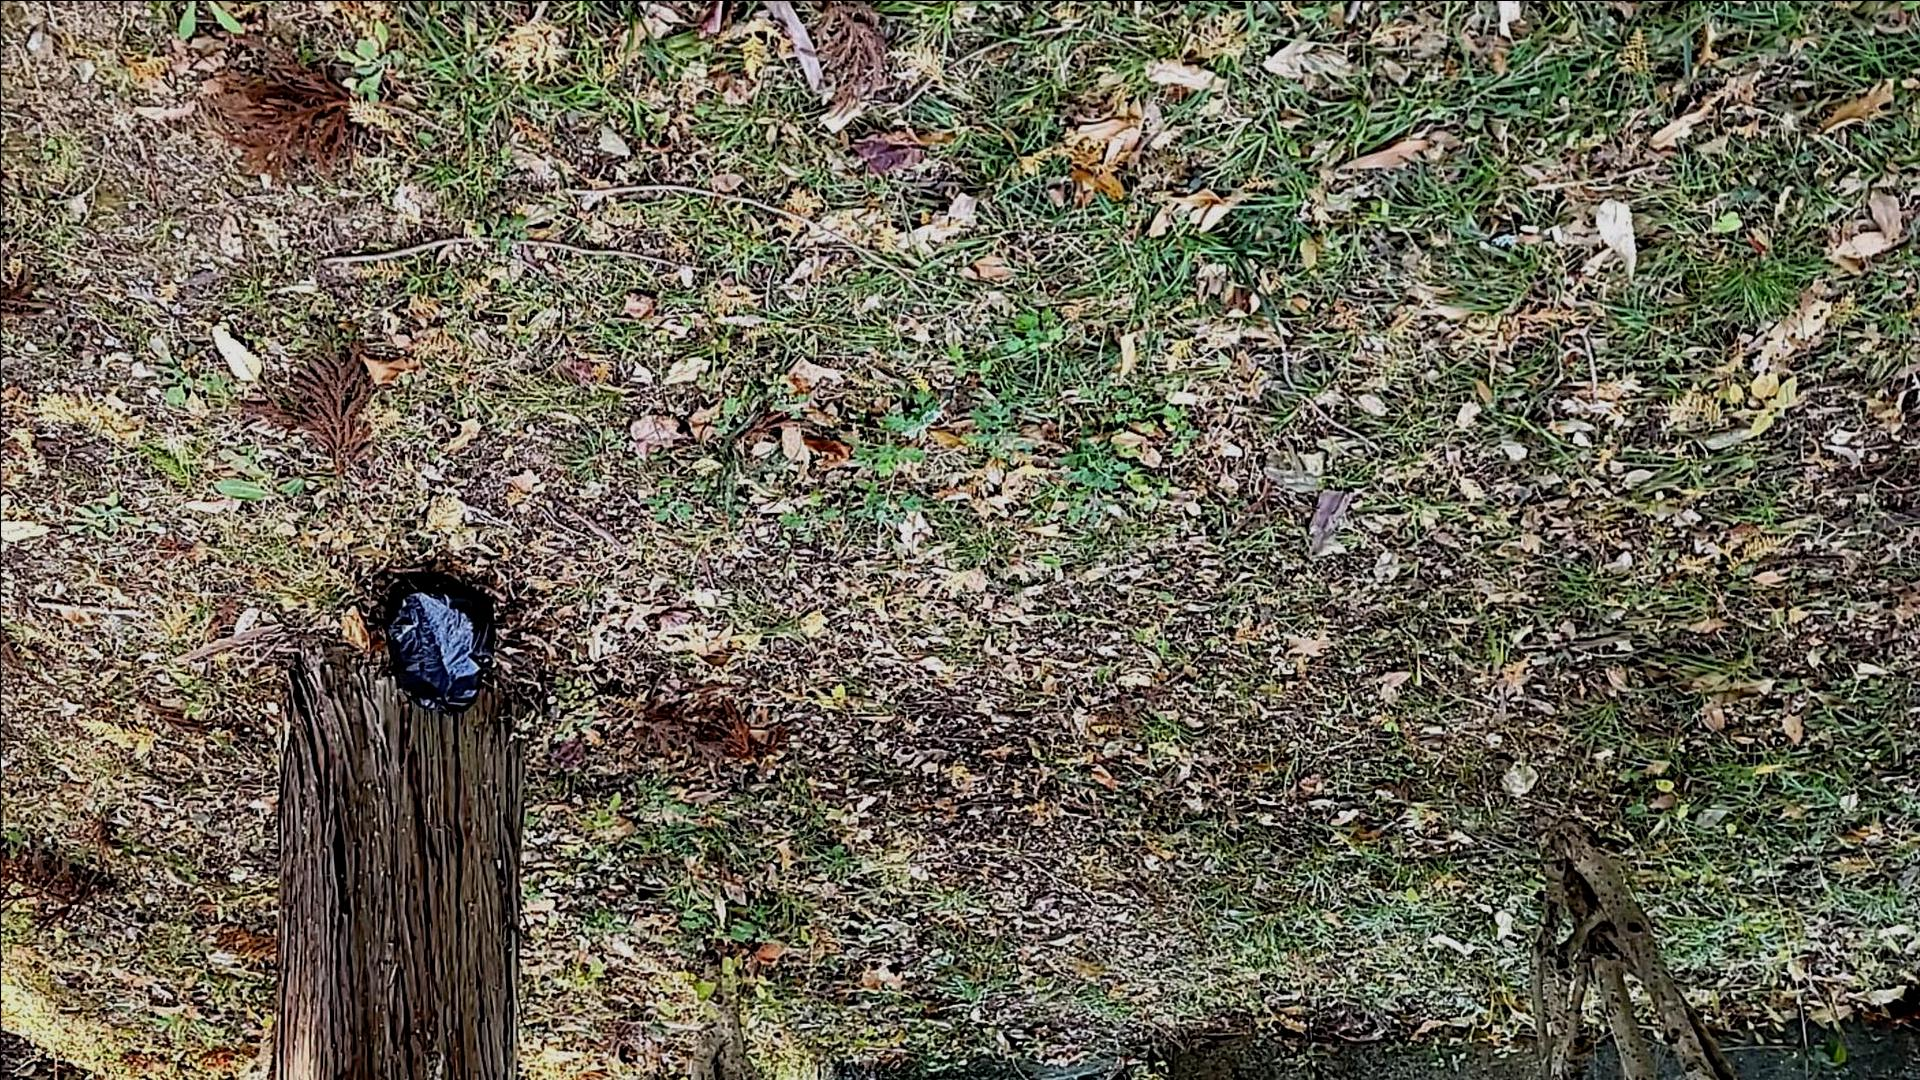black_bag: (367, 566, 509, 717)
